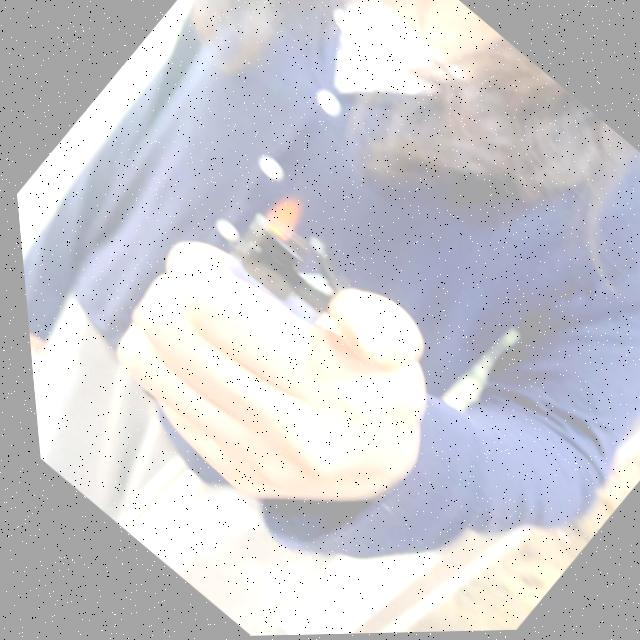Fire: (250, 187, 310, 245)
